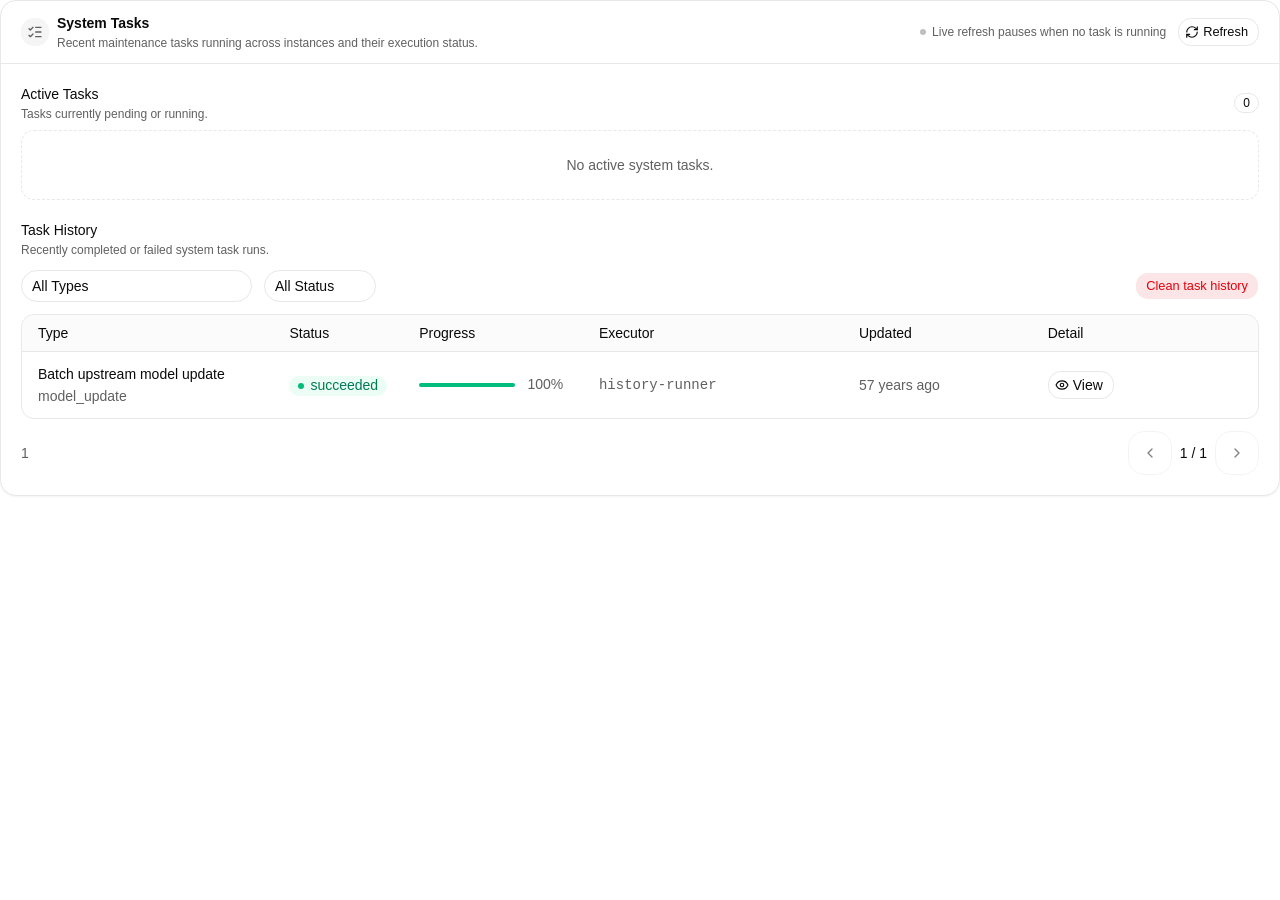
it: opens a detail dialog with the recorded run result, progress and payload
The image size is (1280, 900).
Click the button "View": point(1081, 384) [1048,370,1114,398]
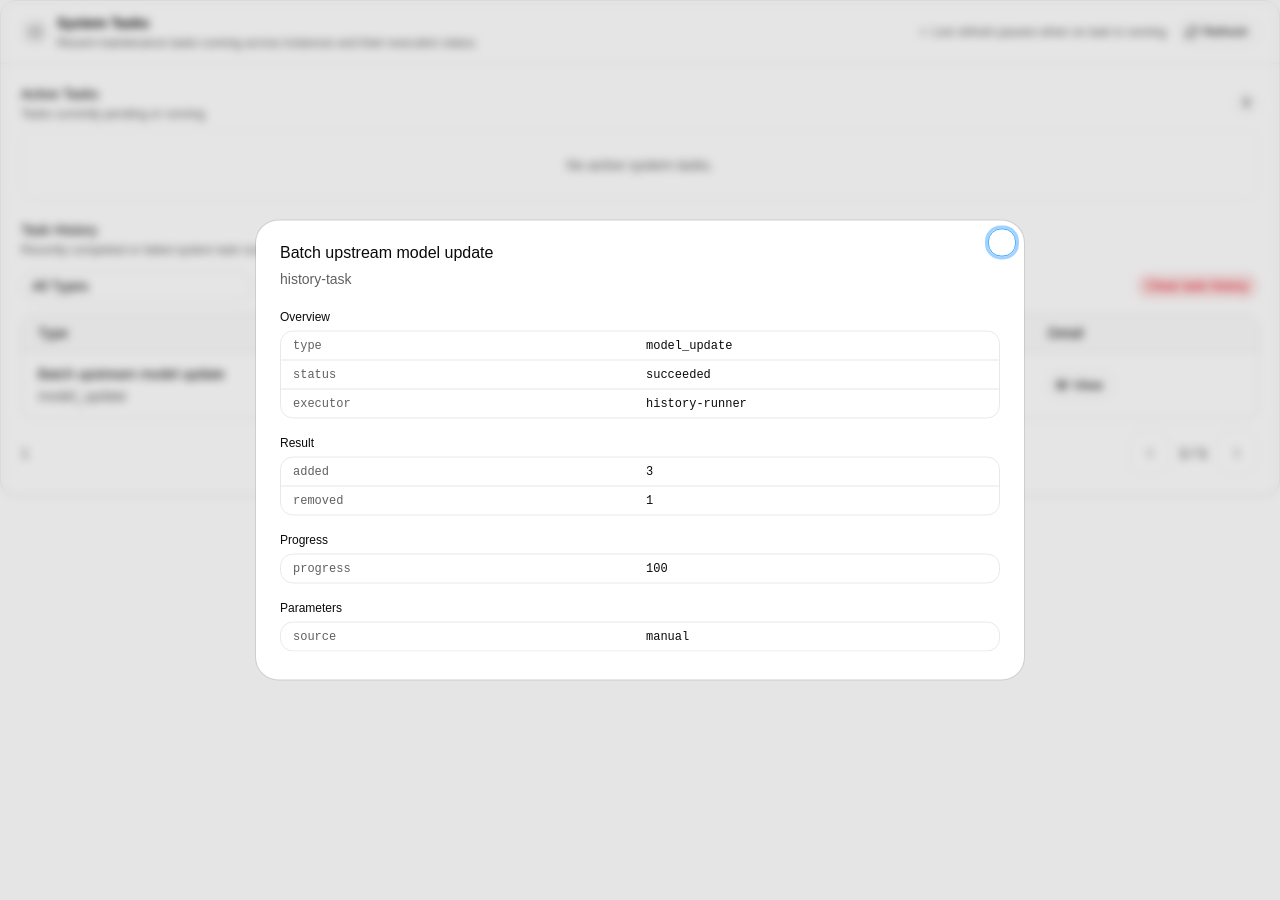
Now the heading "Result" is shown, box [280,436,314,450]
Now the text "added" is shown, box [293,464,329,478]
Now the text "source" is shown, box [293,630,336,644]
